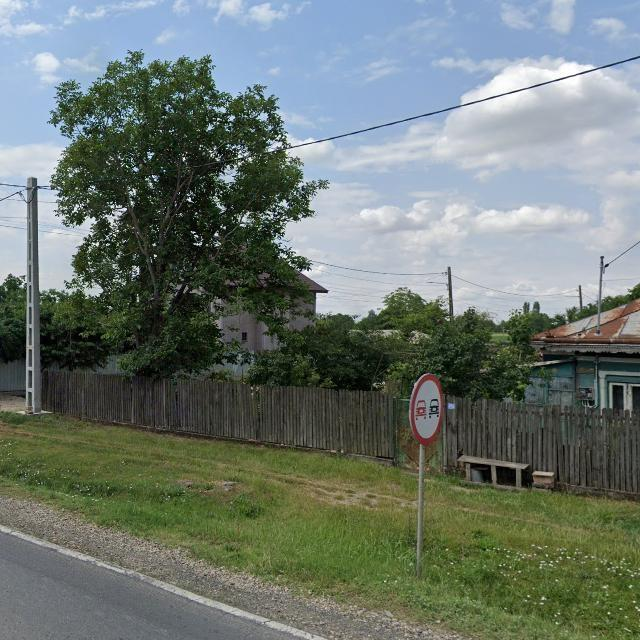forb_overtake: (409, 372, 445, 445)
